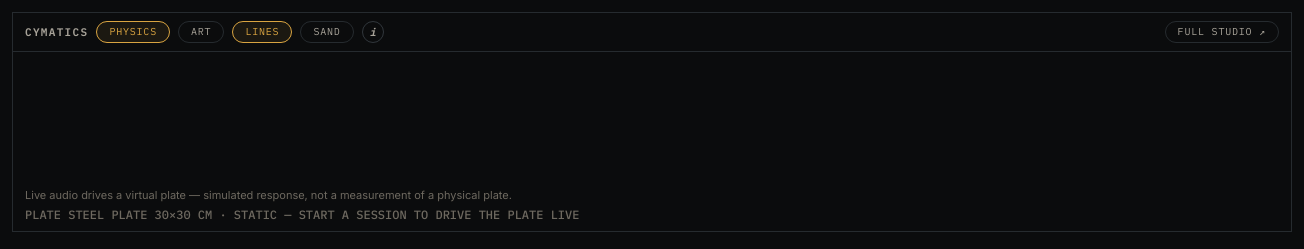
it: StudioCymatics — LINES/SAND toggle › driven SAND panel steps grains per frame (frame 30 differs from frame 1)
Click the button with test id "cymatics-render-sand": x=327, y=32 [300, 21, 354, 43]
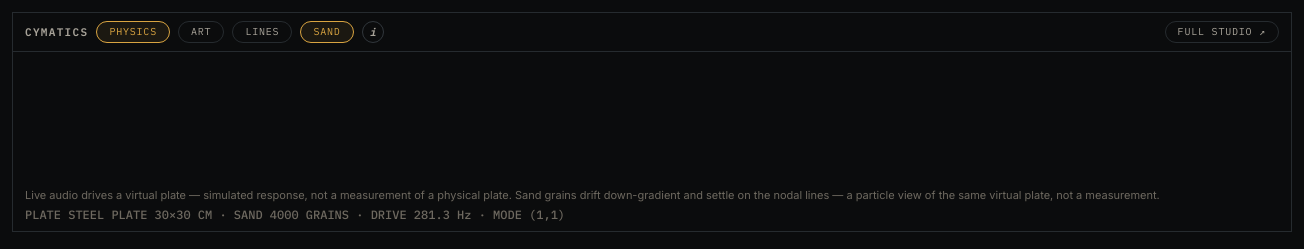
Expected: the text "PLATE STEEL PLATE 30×30 CM · SAND 4000 GRAINS · DRIVE 281.3 Hz · MODE (1,1)" is shown, [25, 207, 565, 222]
